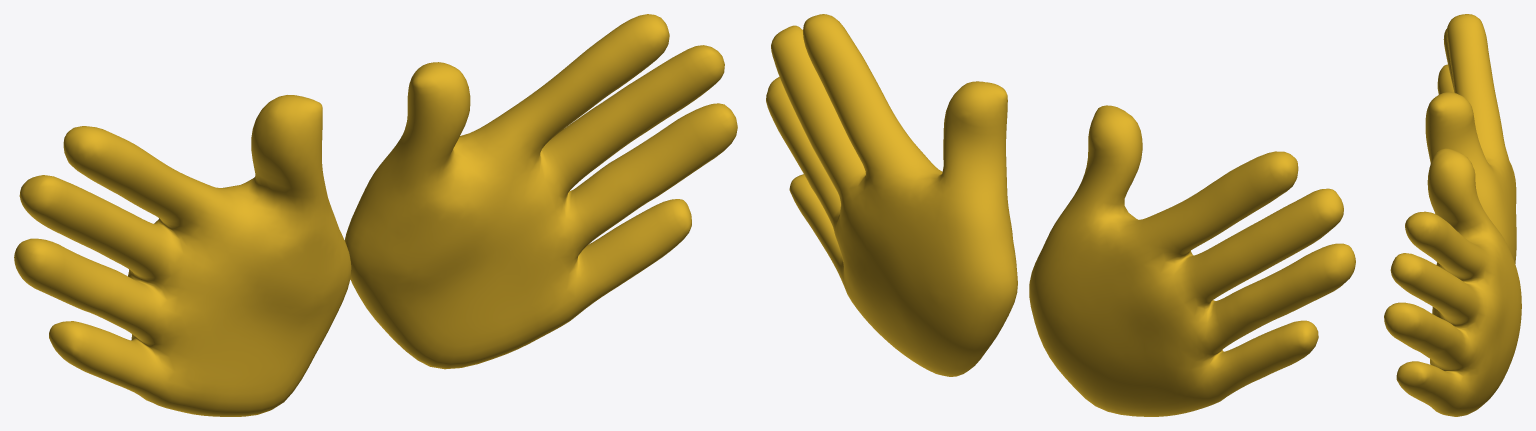
Rendered from OPEN HANDS.glb.
3 renders of one model, left to right at view 1: azimuth 30°, elevation 25°; view 2: azimuth 150°, elevation 25°; view 3: azimuth 270°, elevation 25°, orthographic. The views are drawn at different scales.
Parts seen in each view (by area): view 1: HAND; view 2: HAND; view 3: HAND.
Part boxes in pixels (box(x1,y1,x2,y2)): HAND: box(14, 14, 737, 416); HAND: box(766, 14, 1355, 416); HAND: box(1384, 14, 1521, 416).
Size of the model in its own units: 0.5366 by 0.25 by 0.1235.
